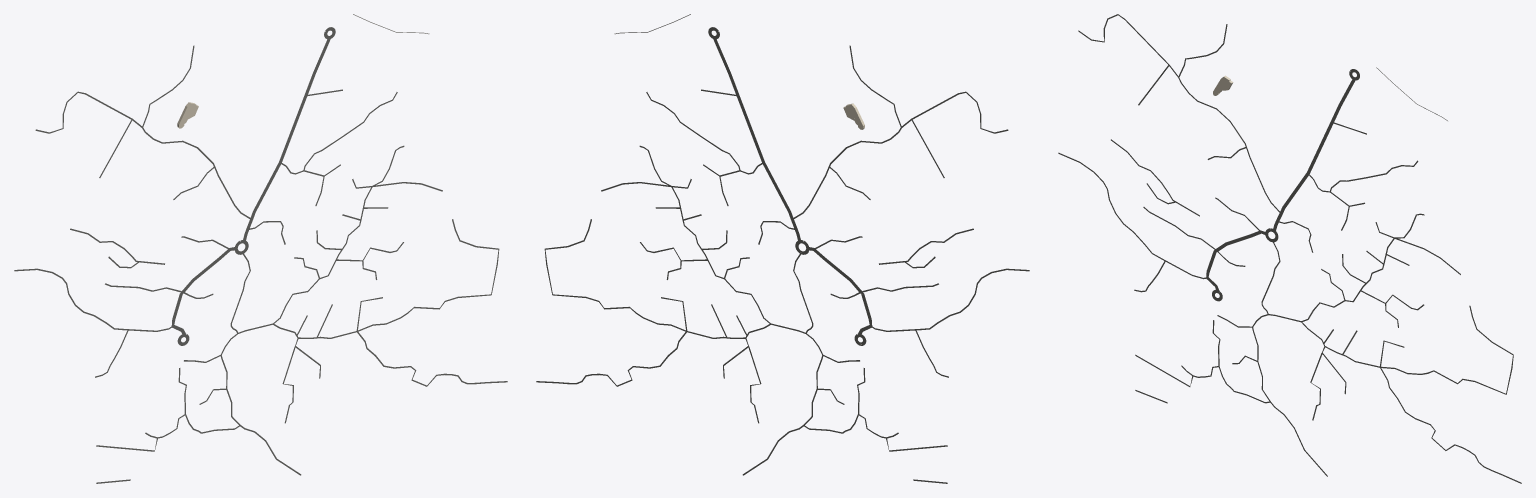
File: historic-palestine-11_35_3530_3296.glb
3 renders of one model, left to right at view 1: azimuth 30°, elevation 25°; view 2: azimuth 150°, elevation 25°; view 3: azimuth 330°, elevation 25°, orthographic. The views are drawn at different scales.
Visible parts, largest first — view 1: Road 8655.003, Road .007, Road .031, Road .015; view 2: Road 8655.003, Road .007, Road .031, Road .015; view 3: Road 8655.003, Road .007, Road .015, Road .031.
Boxes of the visible parts, left/top/right/bottom form: Road 8655.003: left=243, top=38, right=330, bottom=241; Road .007: left=273, top=219, right=499, bottom=338; Road .031: left=184, top=145, right=404, bottom=362; Road .015: left=35, top=91, right=251, bottom=219; Road 8655.003: left=713, top=37, right=800, bottom=240; Road .007: left=544, top=219, right=770, bottom=338; Road .031: left=639, top=145, right=859, bottom=362; Road .015: left=792, top=91, right=1008, bottom=219; Road 8655.003: left=1272, top=78, right=1355, bottom=231; Road .007: left=1301, top=305, right=1513, bottom=394; Road .015: left=1078, top=14, right=1281, bottom=213; Road .031: left=1217, top=213, right=1424, bottom=327.
Bounding box in the file's own units: 1204 × 1063 × 8.7.
